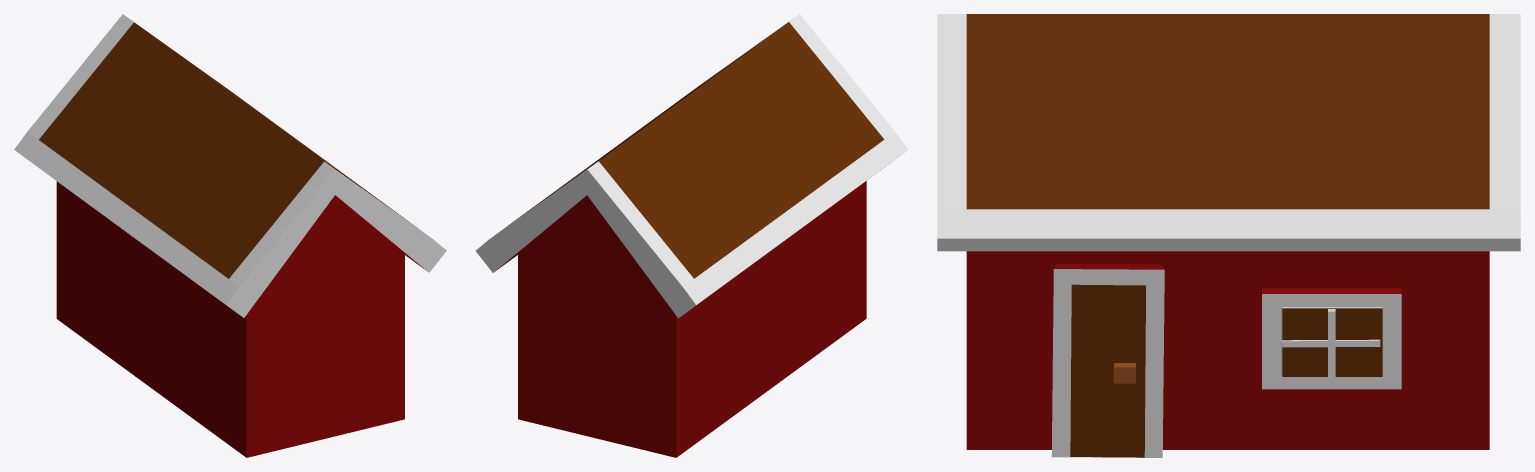
File: house2.fbx
3 views of the same model, side by side, from view 1: azimuth 30°, elevation 25°; view 2: azimuth 150°, elevation 25°; view 3: azimuth 270°, elevation 25° (orthographic). The views are drawn at different scales.
Visible parts, largest first — view 1: Cube; view 2: Cube; view 3: Cube.
Boxes of the visible parts, box(x1,y1,x2,y2) form: Cube: box(14, 14, 446, 457); Cube: box(475, 14, 908, 457); Cube: box(937, 14, 1520, 457).
Bounding box in the file's own units: 279 × 335 × 464.
